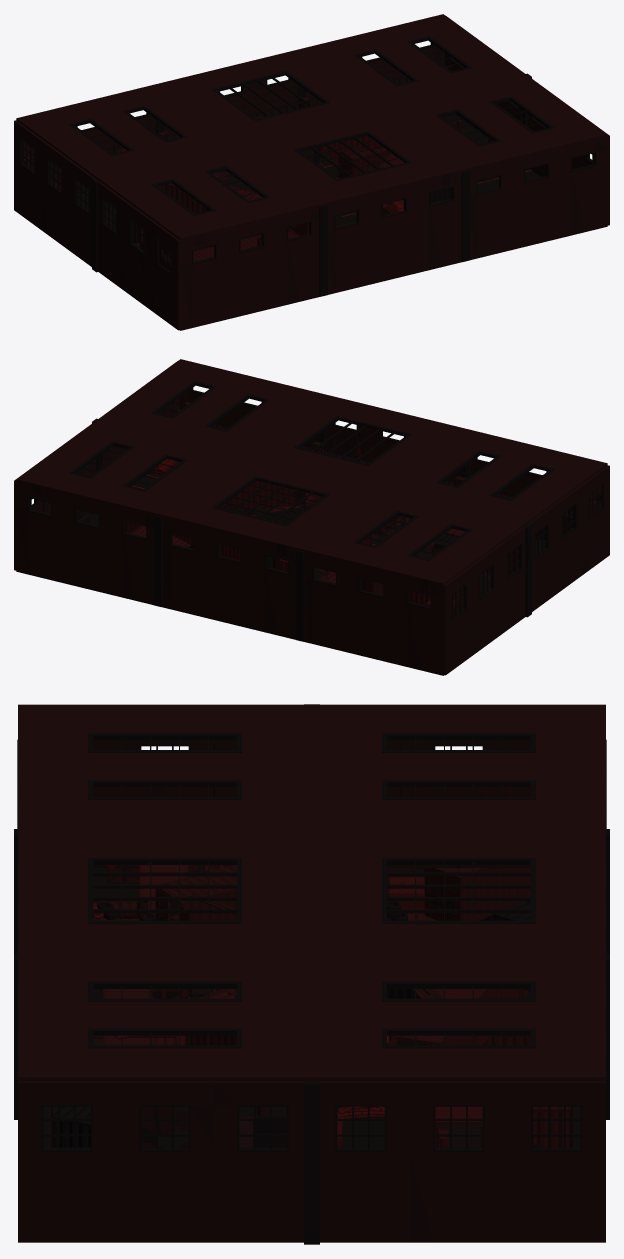
Rendered from armazem.glb.
3 views of the same model, one above another, from view 1: azimuth 30°, elevation 25°; view 2: azimuth 150°, elevation 25°; view 3: azimuth 270°, elevation 25° (orthographic). The views are drawn at different scales.
Visible parts, largest first — view 1: armazem_00, armazem_20, armazem_11, armazem_10, armazem_01, armazem_21; view 2: armazem_11, armazem_00, armazem_20, armazem_01, armazem_21, armazem_10; view 3: armazem_20, armazem_00, armazem_11, armazem_21, armazem_01, armazem_10.
Boxes of the visible parts, x1,y1,x2,y2 form: armazem_00: [16, 83, 322, 330]; armazem_20: [301, 14, 609, 259]; armazem_11: [156, 49, 465, 205]; armazem_10: [292, 153, 470, 296]; armazem_01: [14, 112, 228, 266]; armazem_21: [307, 16, 592, 178]; armazem_11: [153, 394, 464, 641]; armazem_00: [301, 428, 609, 617]; armazem_20: [16, 359, 322, 515]; armazem_01: [304, 518, 525, 675]; armazem_21: [14, 418, 193, 604]; armazem_10: [229, 423, 467, 571]; armazem_20: [17, 953, 605, 1242]; armazem_00: [17, 704, 605, 998]; armazem_11: [18, 829, 609, 1119]; armazem_21: [304, 988, 606, 1244]; armazem_01: [93, 739, 606, 920]; armazem_10: [14, 829, 253, 1119].
Size of what is drawn, in the model's own units: 45.91 by 9.39 by 30.41.
1 material, 1 textured.
